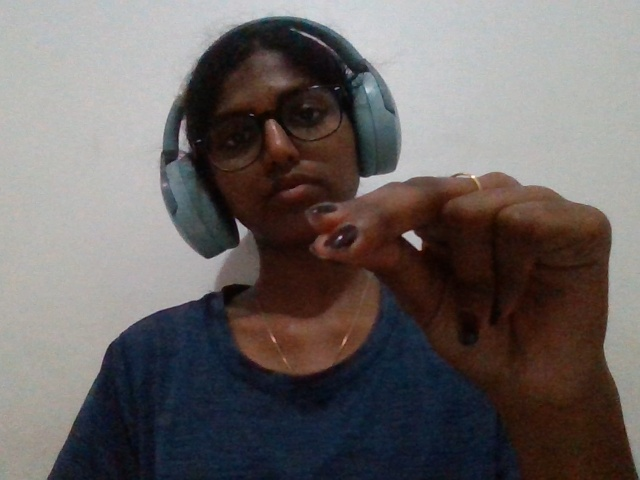No: (279, 143, 640, 444)
